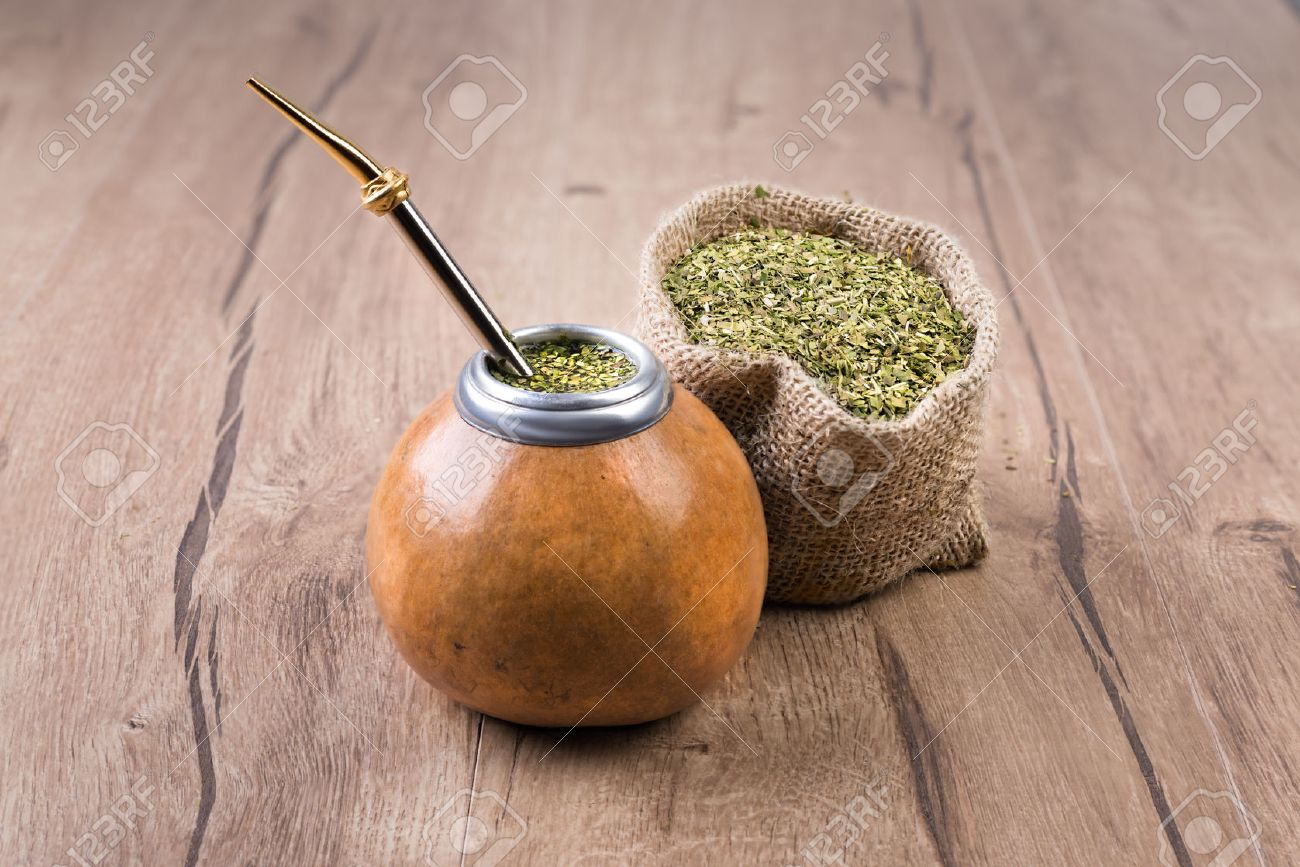guampa: (202, 67, 773, 730)
